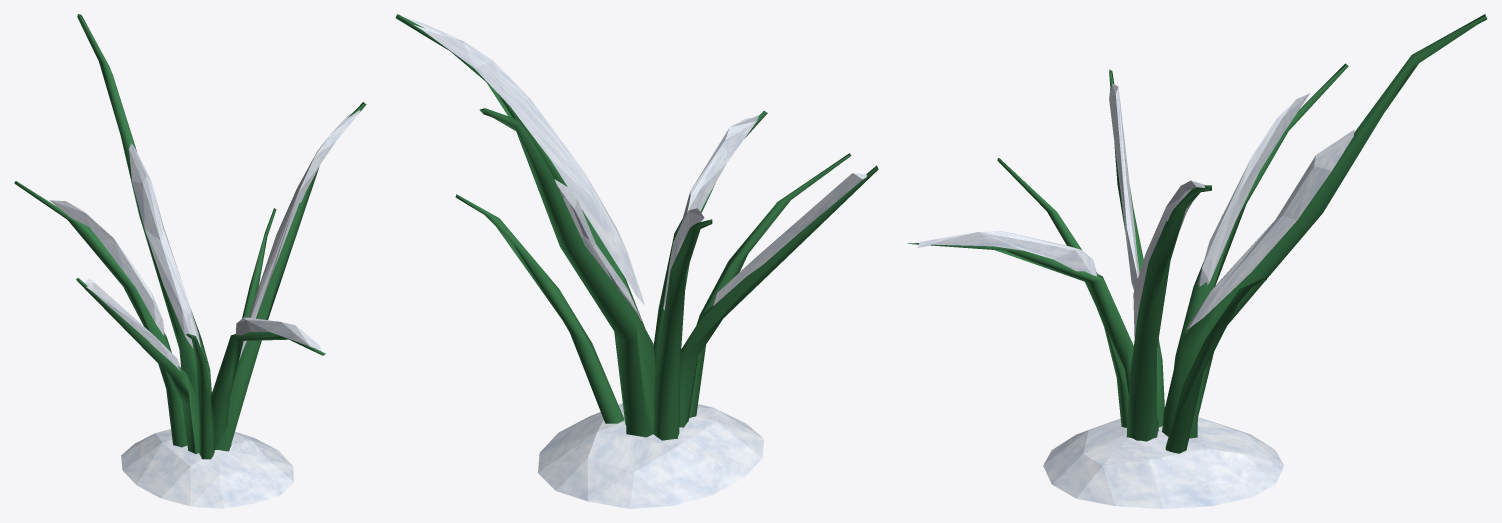
The model's file is Grass Schnee.glb.
3 renders of one model, left to right at view 1: azimuth 30°, elevation 25°; view 2: azimuth 150°, elevation 25°; view 3: azimuth 270°, elevation 25°, orthographic. The views are drawn at different scales.
Parts seen in each view (by area): view 1: Cube.001; view 2: Cube.001; view 3: Cube.001.
Boxes of the visible parts, <box> form: Cube.001: <box>14,14,366,508</box>; Cube.001: <box>395,14,878,508</box>; Cube.001: <box>907,14,1487,508</box>.
Size of the model in its own units: 3.26 by 3.43 by 3.98.
Materials: 2 (1 with a texture image).
